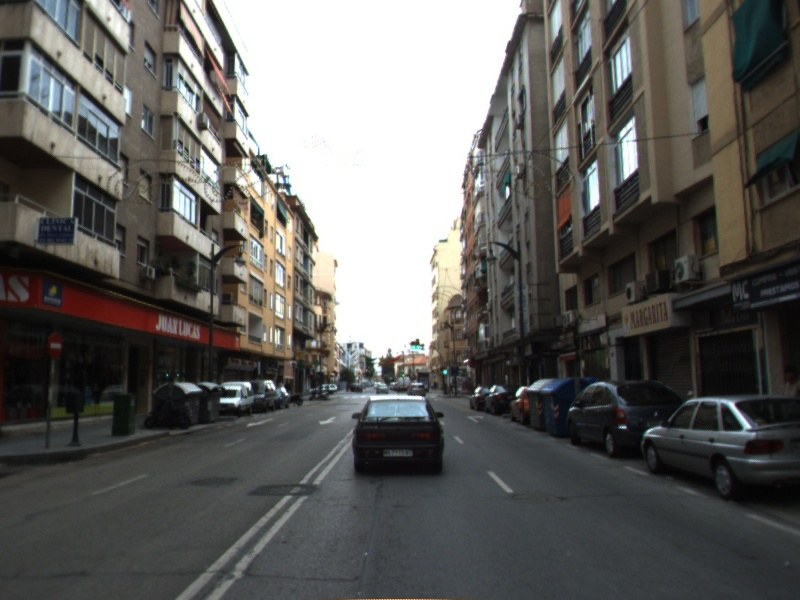RIGHT: (465, 413, 485, 424)
